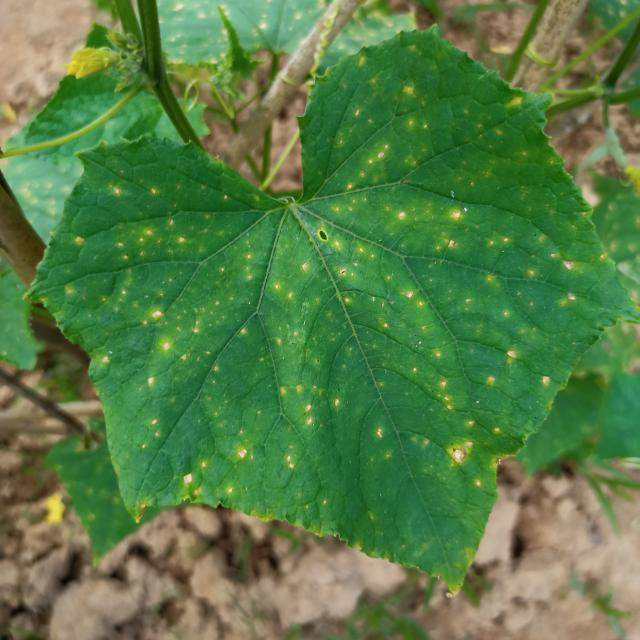disease_cucumber: (102, 62, 575, 546)
